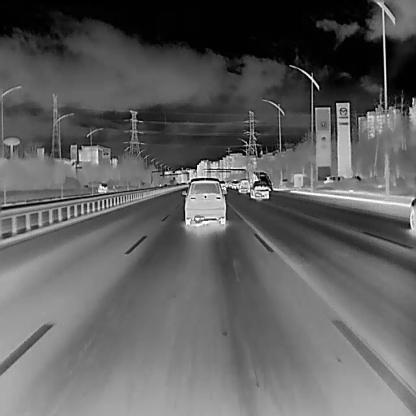car: (181, 176, 226, 226), (248, 180, 270, 199), (323, 173, 346, 183), (238, 177, 250, 193), (217, 180, 226, 190), (230, 180, 239, 188)
truck: (251, 170, 272, 193), (96, 182, 107, 194)
